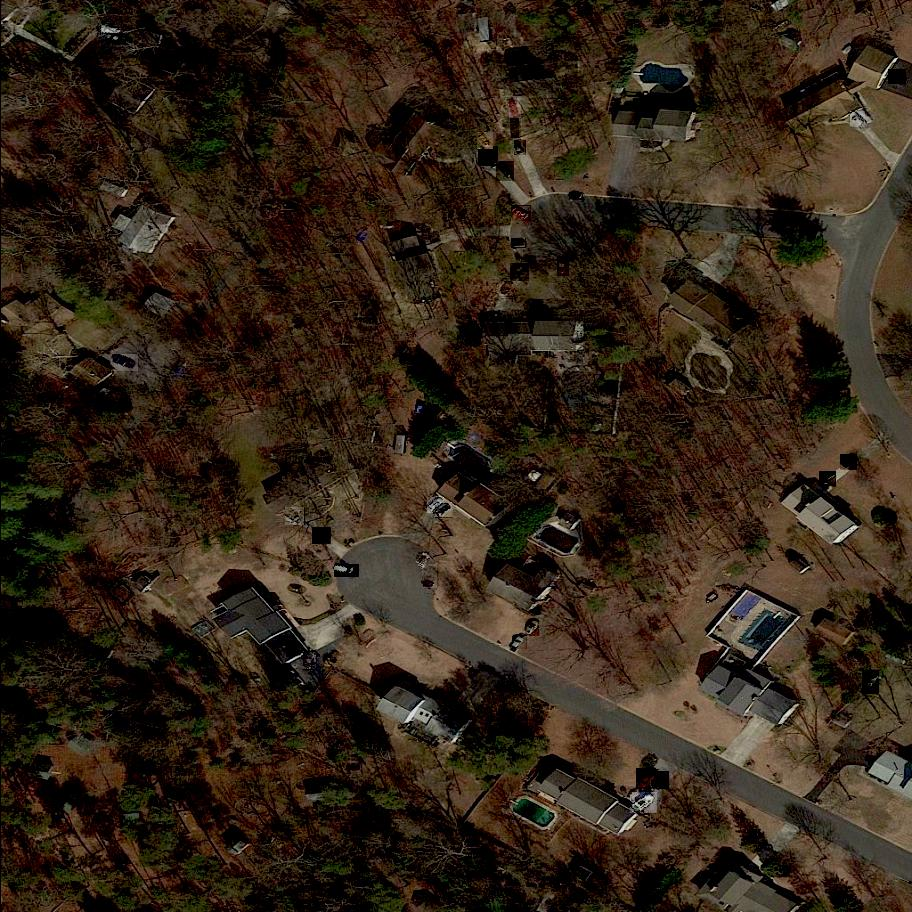ship: (631, 791, 658, 815), (862, 671, 882, 695), (101, 25, 121, 37)
small-vehicle: (111, 354, 139, 373), (636, 768, 657, 791), (650, 771, 670, 792), (479, 146, 499, 167), (422, 565, 439, 589), (286, 507, 306, 526), (510, 263, 529, 282), (511, 206, 531, 224), (335, 564, 359, 579), (415, 552, 433, 572), (497, 161, 514, 182), (506, 97, 522, 119), (312, 527, 331, 545), (435, 502, 453, 520), (428, 497, 445, 515), (819, 471, 836, 489), (841, 454, 858, 472), (477, 132, 493, 151), (304, 650, 318, 671), (850, 112, 867, 129), (888, 70, 907, 85), (510, 118, 523, 139), (500, 281, 516, 298), (512, 634, 527, 652), (526, 617, 539, 636), (558, 257, 570, 277), (514, 140, 527, 156), (106, 34, 122, 44), (511, 239, 527, 249), (570, 194, 583, 199)
